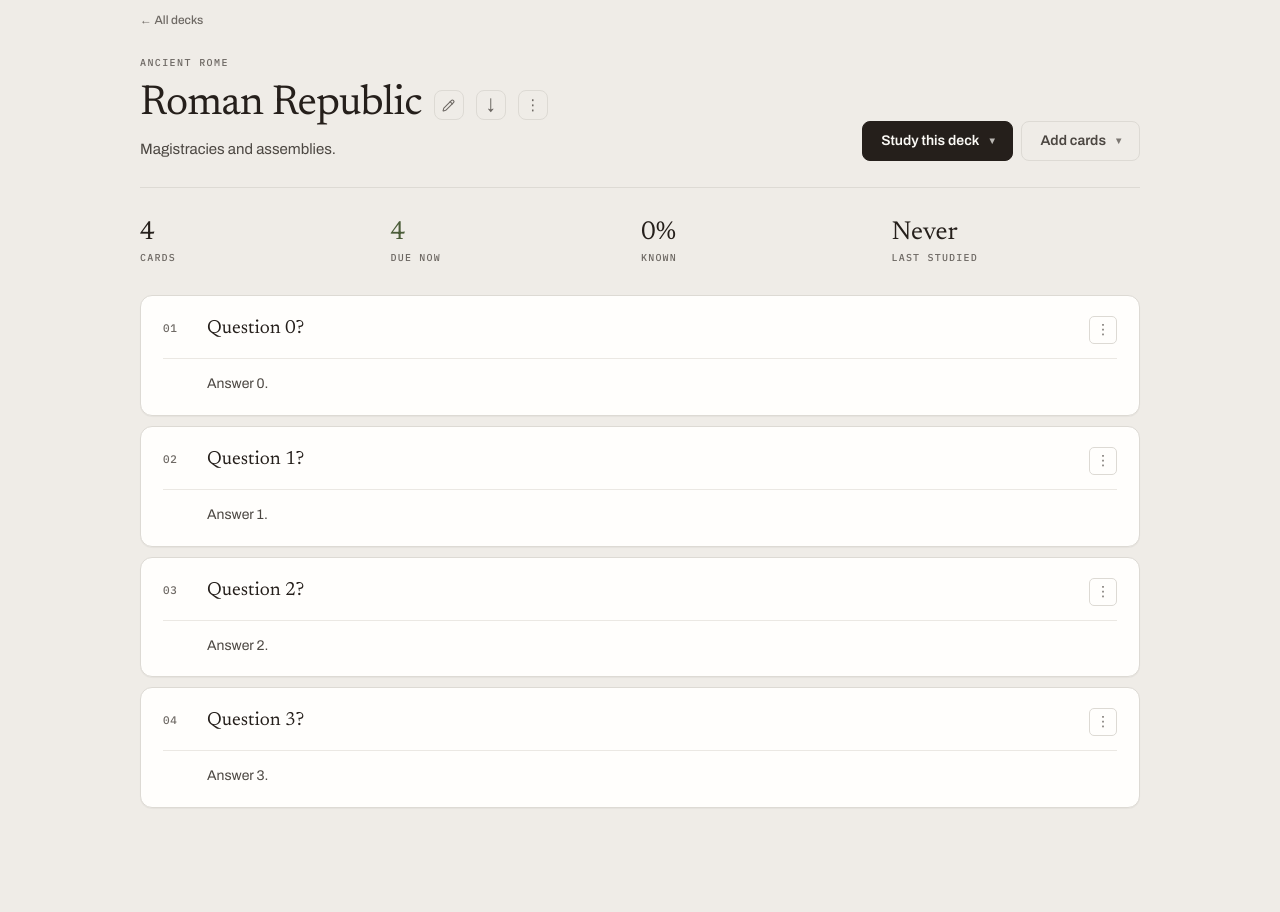
Test: Move to folder, on the deck’s own page › says so when the deck is in no folder
Click the button named "Deck options" at (533, 105), box [518,90,548,120]
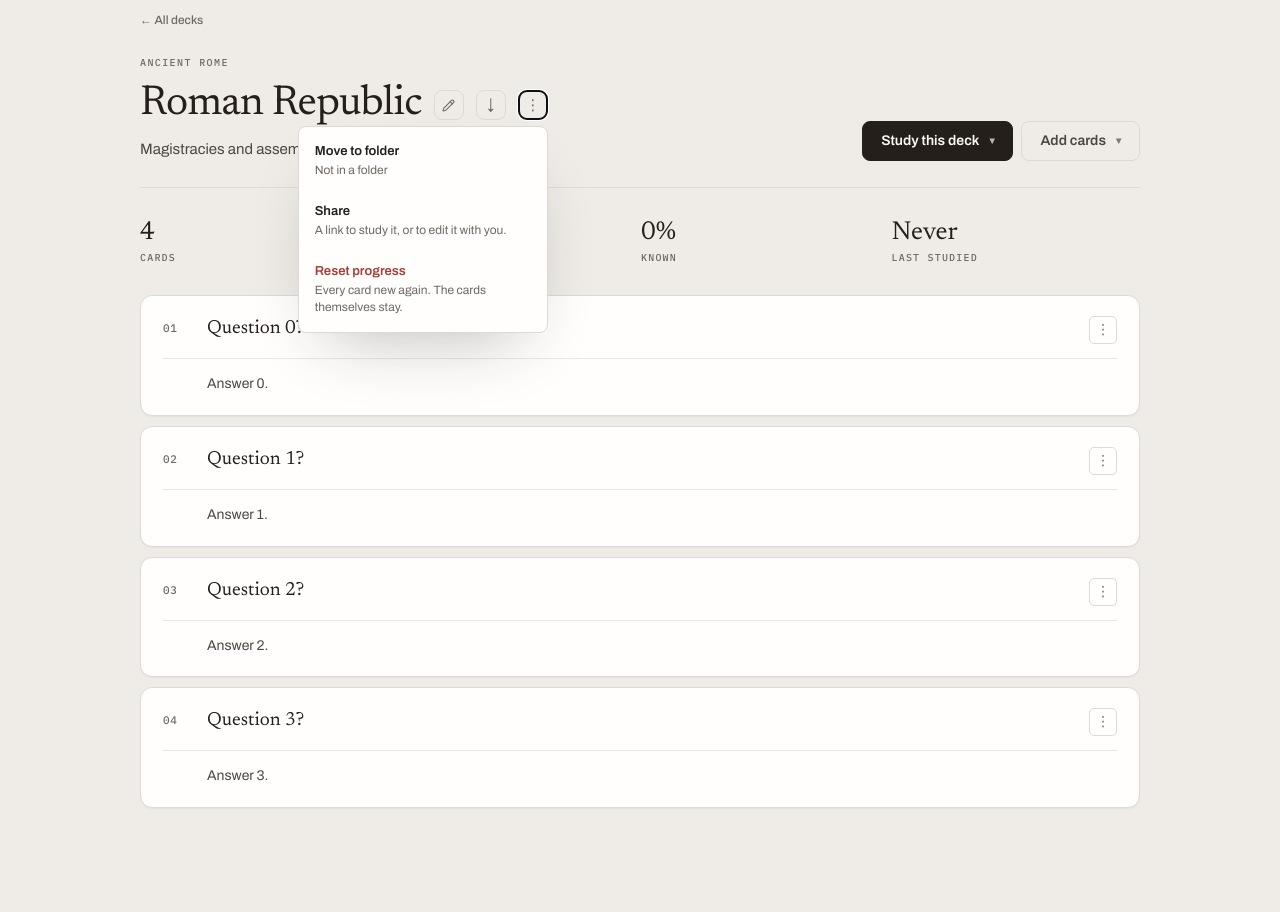
Expected: the button "Move to folder Not in a folder" is shown, [304,132,542,190]
